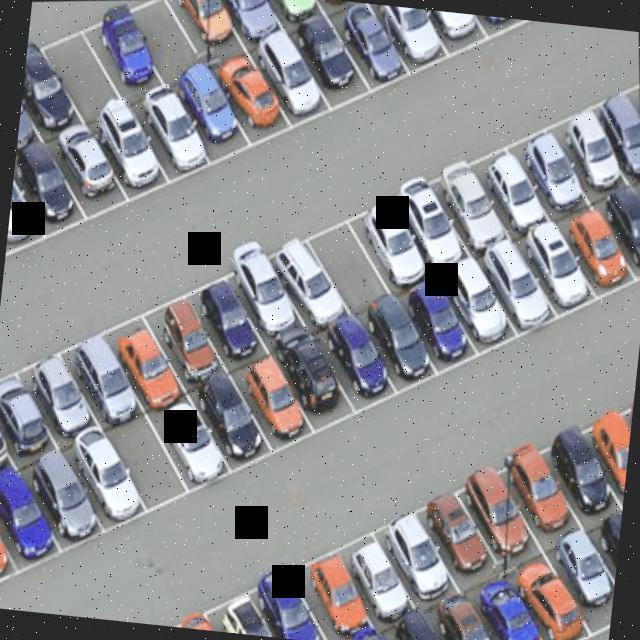car: (442, 460, 552, 577), (102, 301, 194, 424), (406, 479, 502, 590), (526, 419, 626, 525), (264, 216, 356, 329), (431, 248, 524, 358), (364, 501, 463, 604), (484, 439, 582, 542), (327, 514, 418, 624), (286, 535, 381, 640), (236, 352, 330, 458), (64, 428, 156, 534), (74, 0, 168, 103), (513, 220, 605, 325), (191, 370, 281, 477), (478, 238, 570, 342), (326, 0, 422, 98), (24, 330, 106, 444), (226, 231, 310, 340), (191, 260, 272, 372), (542, 518, 620, 634), (148, 398, 242, 493), (398, 278, 488, 377), (348, 197, 437, 297), (24, 446, 104, 556), (270, 330, 358, 430), (68, 320, 146, 432), (289, 12, 377, 111), (154, 284, 234, 392), (168, 70, 258, 166), (357, 297, 443, 396), (251, 31, 337, 130), (559, 198, 640, 303), (316, 314, 398, 412), (503, 553, 595, 640), (508, 113, 592, 208), (387, 170, 465, 272), (47, 118, 128, 216), (90, 112, 176, 204), (548, 96, 632, 188), (212, 55, 296, 147), (8, 140, 89, 234), (243, 560, 337, 640), (0, 346, 61, 467), (427, 160, 509, 250), (18, 32, 86, 140), (130, 92, 213, 180), (564, 398, 633, 502), (361, 3, 452, 78), (473, 142, 551, 228), (0, 467, 66, 568), (475, 571, 562, 640), (585, 78, 640, 172), (211, 576, 292, 638), (4, 162, 52, 262), (427, 581, 503, 640), (586, 501, 622, 618), (170, 0, 240, 58), (415, 9, 491, 58), (385, 591, 458, 640), (169, 595, 246, 634), (224, 0, 283, 43), (15, 65, 40, 160), (0, 362, 17, 479), (0, 494, 20, 588)
free: (30, 15, 130, 113), (304, 206, 394, 314), (102, 418, 197, 514), (115, 0, 207, 89)
